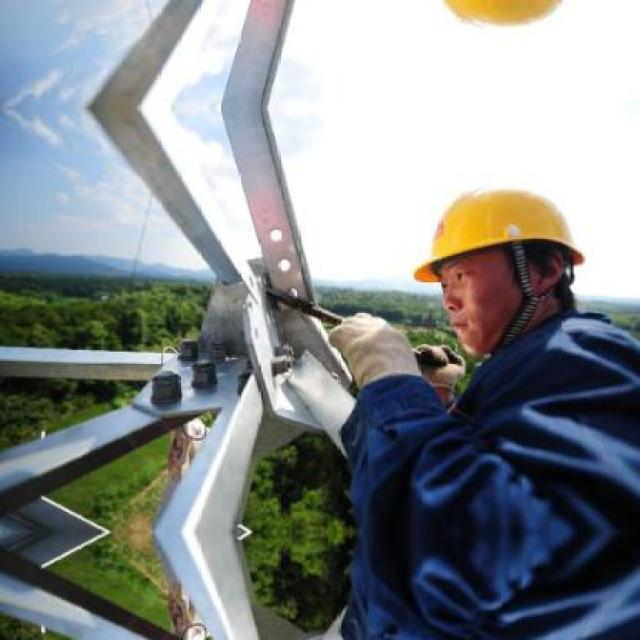helmet: (401, 162, 593, 352), (400, 0, 594, 54)
